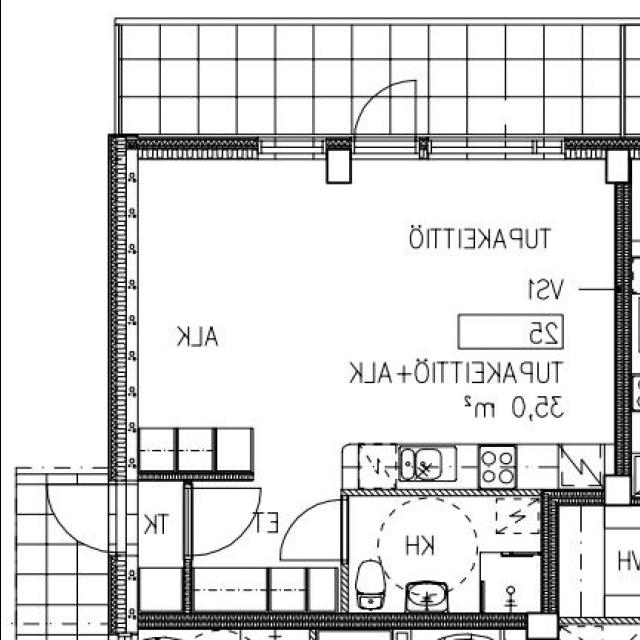door: (39, 470, 135, 559), (340, 75, 420, 163), (177, 478, 261, 560), (275, 492, 354, 568)
window: (431, 127, 587, 160), (247, 120, 340, 170)
